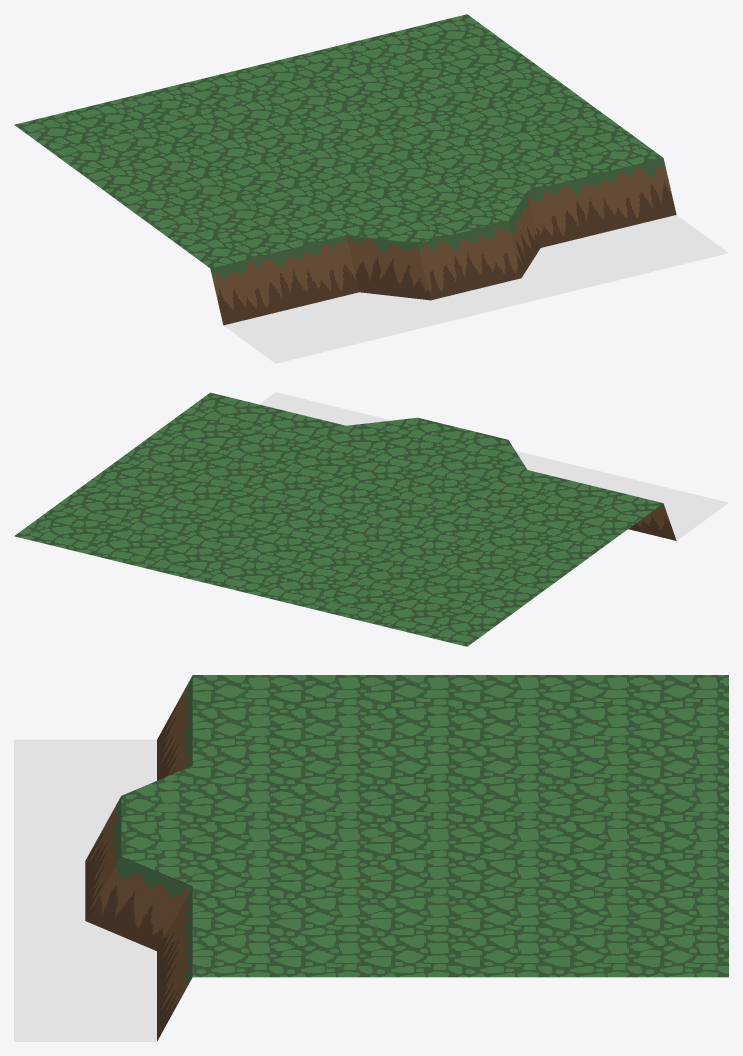
The model's file is acre00.glb.
The picture shows the model from 3 angles, top to bottom: view 1: azimuth 30°, elevation 25°; view 2: azimuth 150°, elevation 25°; view 3: azimuth 270°, elevation 25°; orthographic projection. The views are drawn at different scales.
Parts seen in each view (by area): view 1: acre00-col; view 2: acre00-col; view 3: acre00-col.
Part boxes in pixels (left/top/right/bottom): acre00-col: left=14, top=14, right=728, bottom=363; acre00-col: left=14, top=392, right=728, bottom=646; acre00-col: left=14, top=675, right=728, bottom=1041.
Bounding box in the file's own units: 20 × 2 × 20.
3 materials, 2 textured.
